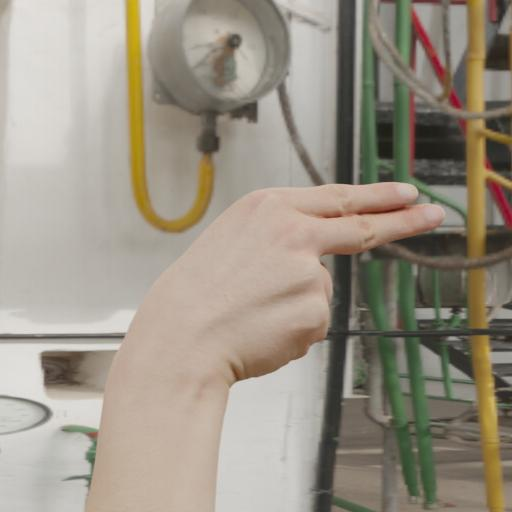H: (86, 143, 476, 447)
